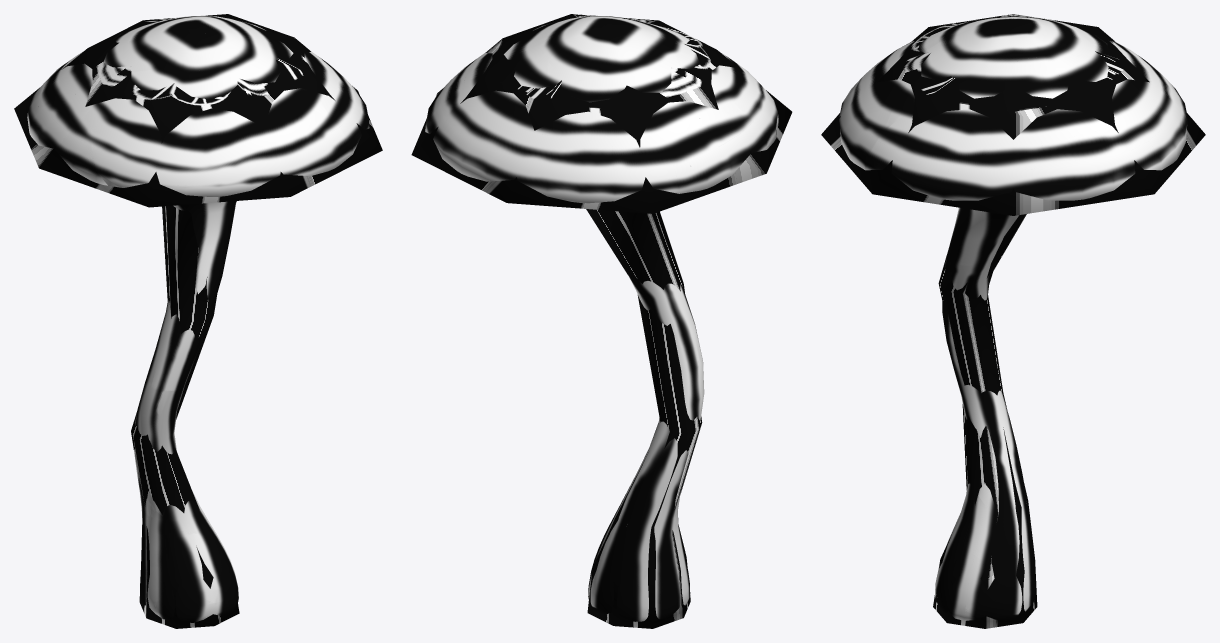
Rendered from mushroomtree1.fbx_Scene.fbx.
3 renders of one model, left to right at view 1: azimuth 30°, elevation 25°; view 2: azimuth 150°, elevation 25°; view 3: azimuth 270°, elevation 25°, orthographic. The views are drawn at different scales.
Visible parts, largest first — view 1: Plane.001, Plane_cell.002, Plane, Plane_cell.012, Plane_cell.019, Plane_cell.015, Plane_cell.005, Plane_cell.006, Plane_cell.009, Plane_cell, Plane_cell.014, Plane_cell.003 (+4 smaller); view 2: Plane, Plane.001, Plane_cell.012, Plane_cell.002, Plane_cell.007, Plane_cell.019; view 3: Plane, Plane.001, Plane_cell.019, Plane_cell.012, Plane_cell.002, Plane_cell.005, Plane_cell, Plane_cell.017, Plane_cell.009, Plane_cell.015, Plane_cell.008.
Part boxes in pixels (box(x1,y1,x2,y2)): Plane.001: box(14, 14, 382, 628); Plane_cell.002: box(91, 68, 351, 196); Plane: box(27, 15, 336, 622); Plane_cell.012: box(117, 16, 330, 119); Plane_cell.019: box(219, 18, 369, 154); Plane_cell.015: box(152, 272, 222, 390); Plane_cell.005: box(174, 201, 236, 276); Plane_cell.006: box(168, 530, 221, 603); Plane_cell.009: box(138, 382, 184, 493); Plane_cell: box(166, 501, 220, 543); Plane_cell.014: box(156, 584, 215, 622); Plane_cell.003: box(142, 511, 170, 566); Plane: box(425, 18, 775, 621); Plane.001: box(411, 14, 792, 628); Plane_cell.012: box(547, 15, 679, 82); Plane_cell.002: box(651, 24, 778, 130); Plane_cell.007: box(577, 76, 751, 173); Plane_cell.019: box(451, 20, 562, 88); Plane: box(864, 18, 1187, 620); Plane.001: box(821, 14, 1205, 628); Plane_cell.019: box(864, 56, 1108, 200); Plane_cell.012: box(884, 16, 1097, 130); Plane_cell.002: box(839, 21, 973, 169); Plane_cell.005: box(948, 207, 1002, 264); Plane_cell: box(960, 483, 1013, 572); Plane_cell.017: box(935, 548, 1005, 610); Plane_cell.009: box(947, 343, 997, 448); Plane_cell.015: box(942, 249, 974, 348); Plane_cell.008: box(969, 448, 1012, 535).
Bounding box in the file's own units: 676 × 1143 × 676.
